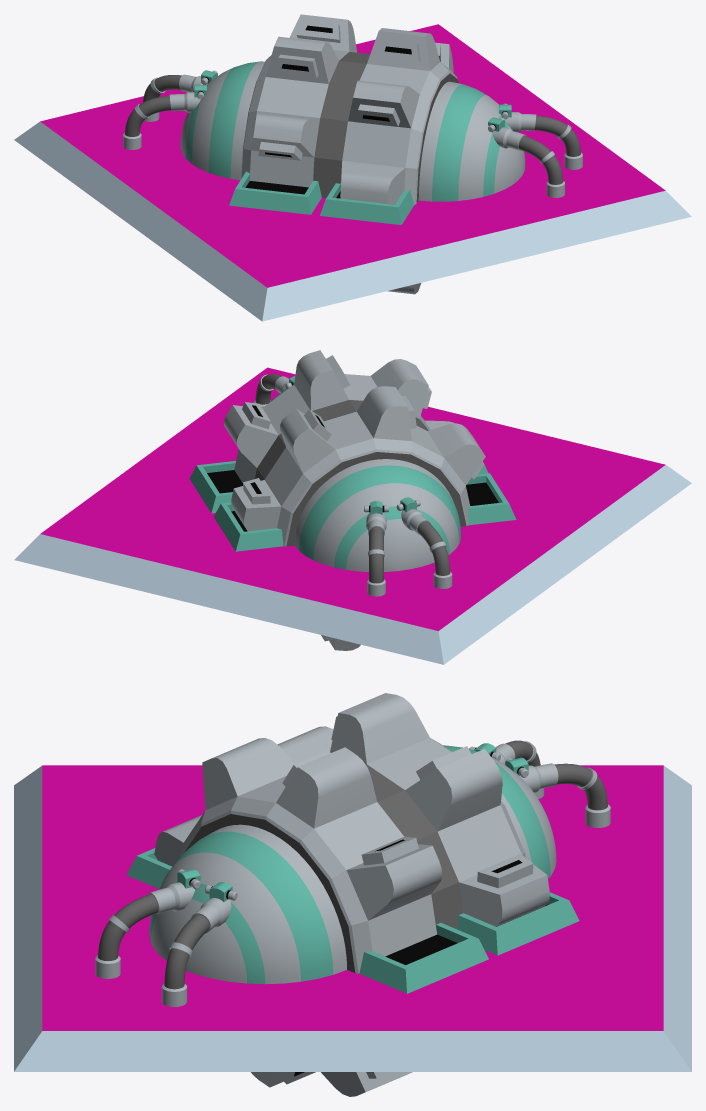
File: 60_Haarvester_FUD5.fbx
3 views of the same model, one above another, from view 1: azimuth 30°, elevation 25°; view 2: azimuth 150°, elevation 25°; view 3: azimuth 270°, elevation 25° (orthographic). The views are drawn at different scales.
Visible parts, largest first — view 1: foundation5, pCylinder114, pSphere32, pSphere55, pCylinder132 (×2), pCylinder254 (×2), pPlane31, pPlane32; view 2: foundation5, pCylinder114, pSphere55, pPlane31, pCylinder132 (×2), pPlane32, pCylinder254; view 3: foundation5, pCylinder114, pSphere32, pCylinder254 (×2), pPlane32, pCylinder132 (×2), pSphere55, pPlane31.
Boxes of the visible parts, left/top/right/bottom form: foundation5: left=14, top=24, right=691, bottom=321; pCylinder114: left=241, top=14, right=458, bottom=294; pSphere32: left=418, top=81, right=525, bottom=201; pSphere55: left=180, top=61, right=264, bottom=180; pCylinder132 (×2): left=123, top=85, right=582, bottom=169; pCylinder254 (×2): left=143, top=70, right=565, bottom=197; pPlane31: left=229, top=171, right=321, bottom=214; pPlane32: left=320, top=183, right=414, bottom=224; foundation5: left=14, top=367, right=691, bottom=664; pCylinder114: left=224, top=350, right=485, bottom=650; pSphere55: left=294, top=459, right=461, bottom=571; pPlane31: left=214, top=473, right=516, bottom=551; pCylinder132 (×2): left=253, top=374, right=452, bottom=588; pPlane32: left=189, top=461, right=488, bottom=513; pCylinder254: left=366, top=501, right=386, bottom=596; foundation5: left=14, top=765, right=691, bottom=1071; pCylinder114: left=154, top=693, right=549, bottom=1096; pSphere32: left=149, top=824, right=346, bottom=984; pCylinder254 (×2): left=95, top=757, right=610, bottom=978; pPlane32: left=126, top=848, right=488, bottom=993; pCylinder132 (×2): left=161, top=740, right=544, bottom=1006; pSphere55: left=443, top=745, right=556, bottom=878; pPlane31: left=457, top=892, right=579, bottom=955.
Size of the model in its own units: 2 by 1.08 by 2.
